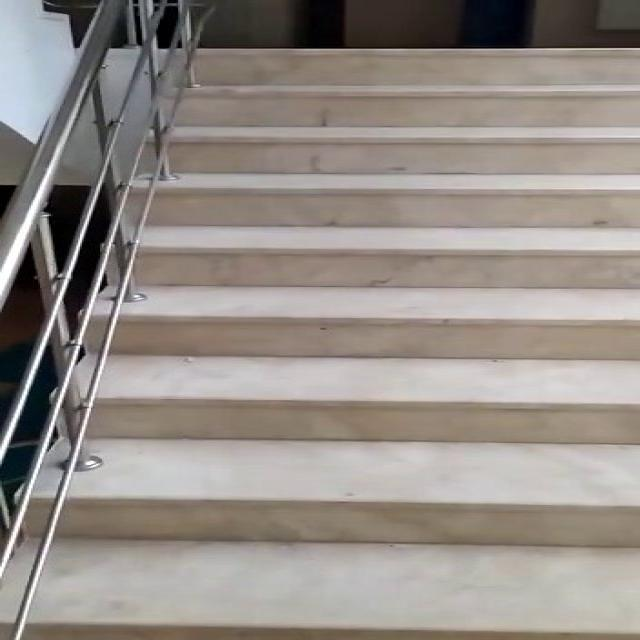stair: (124, 49, 640, 640)
